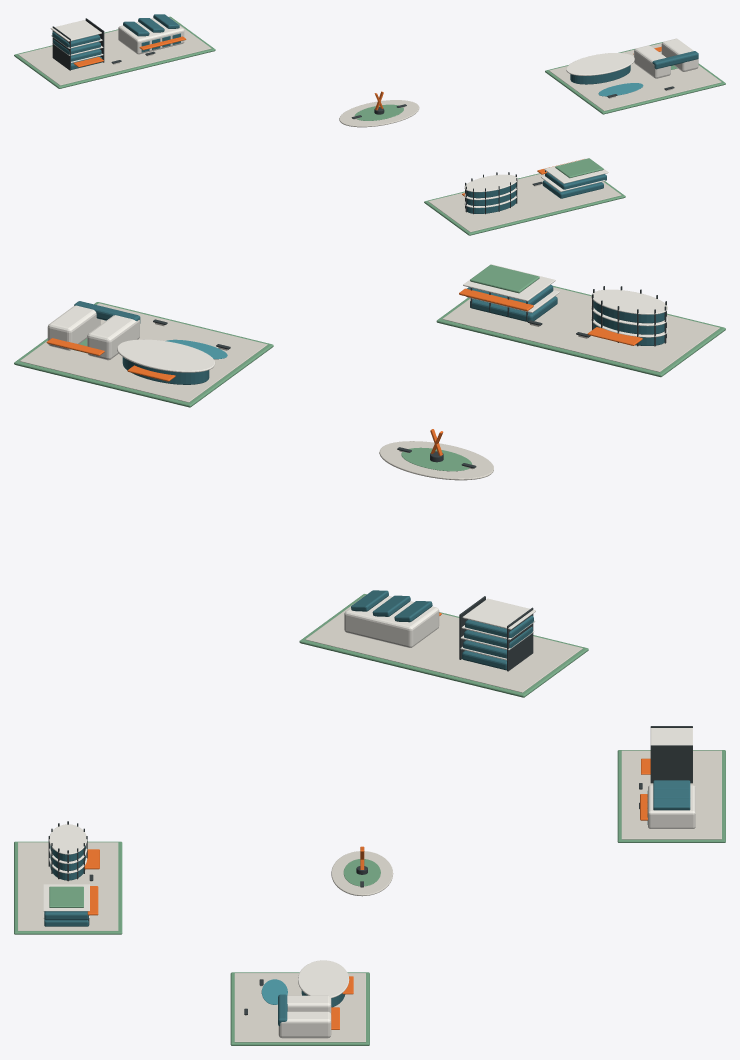
File: fado_ecosystem.glb
3 views of the same model, one above another, from view 1: azimuth 30°, elevation 25°; view 2: azimuth 150°, elevation 25°; view 3: azimuth 270°, elevation 25° (orthographic). The views are drawn at different scales.
Parts seen in each view (by area): view 1: ECOSYSTEM_BATCH_Warm architectural stone, ECOSYSTEM_BATCH_Warm white facade, ECOSYSTEM_BATCH_Curtain wall glass, ECOSYSTEM_BATCH_Landscape, ECOSYSTEM_BATCH_Charcoal structure, ECOSYSTEM_BATCH_FADO orange accent, ECOSYSTEM_BATCH_Reflecting water; view 2: ECOSYSTEM_BATCH_Warm architectural stone, ECOSYSTEM_BATCH_Warm white facade, ECOSYSTEM_BATCH_Landscape, ECOSYSTEM_BATCH_Curtain wall glass, ECOSYSTEM_BATCH_Charcoal structure, ECOSYSTEM_BATCH_FADO orange accent; view 3: ECOSYSTEM_BATCH_Warm architectural stone, ECOSYSTEM_BATCH_Warm white facade, ECOSYSTEM_BATCH_Landscape, ECOSYSTEM_BATCH_Curtain wall glass, ECOSYSTEM_BATCH_Charcoal structure, ECOSYSTEM_BATCH_FADO orange accent.
Part boxes in pixels (x1,y1,x2,y2): ECOSYSTEM_BATCH_Warm architectural stone: [18, 18, 721, 232]; ECOSYSTEM_BATCH_Warm white facade: [50, 18, 698, 207]; ECOSYSTEM_BATCH_Curtain wall glass: [52, 14, 698, 213]; ECOSYSTEM_BATCH_Landscape: [14, 16, 725, 235]; ECOSYSTEM_BATCH_Charcoal structure: [52, 18, 674, 214]; ECOSYSTEM_BATCH_FADO orange accent: [73, 36, 661, 196]; ECOSYSTEM_BATCH_Reflecting water: [598, 83, 643, 96]; ECOSYSTEM_BATCH_Warm architectural stone: [20, 287, 719, 692]; ECOSYSTEM_BATCH_Warm white facade: [47, 264, 667, 660]; ECOSYSTEM_BATCH_Landscape: [14, 264, 725, 697]; ECOSYSTEM_BATCH_Curtain wall glass: [74, 284, 664, 670]; ECOSYSTEM_BATCH_Charcoal structure: [153, 286, 666, 671]; ECOSYSTEM_BATCH_FADO orange accent: [46, 288, 642, 615]; ECOSYSTEM_BATCH_Warm architectural stone: [18, 750, 721, 1042]; ECOSYSTEM_BATCH_Warm white facade: [43, 728, 695, 1038]; ECOSYSTEM_BATCH_Landscape: [14, 750, 725, 1045]; ECOSYSTEM_BATCH_Curtain wall glass: [44, 780, 690, 1026]; ECOSYSTEM_BATCH_Charcoal structure: [48, 726, 692, 1014]; ECOSYSTEM_BATCH_FADO orange accent: [84, 758, 650, 1029].
Size of the model in its own units: 90 by 5.79 by 92.
